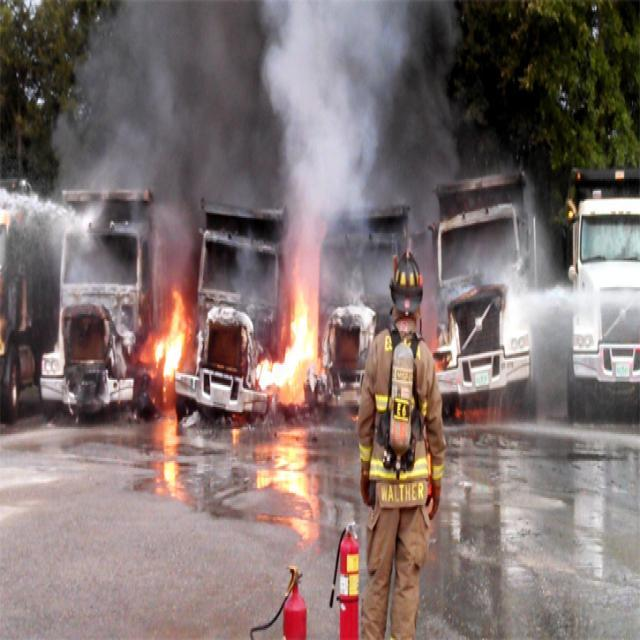Fire: (258, 288, 316, 396), (154, 294, 188, 374)
Smoke: (0, 0, 461, 288)
